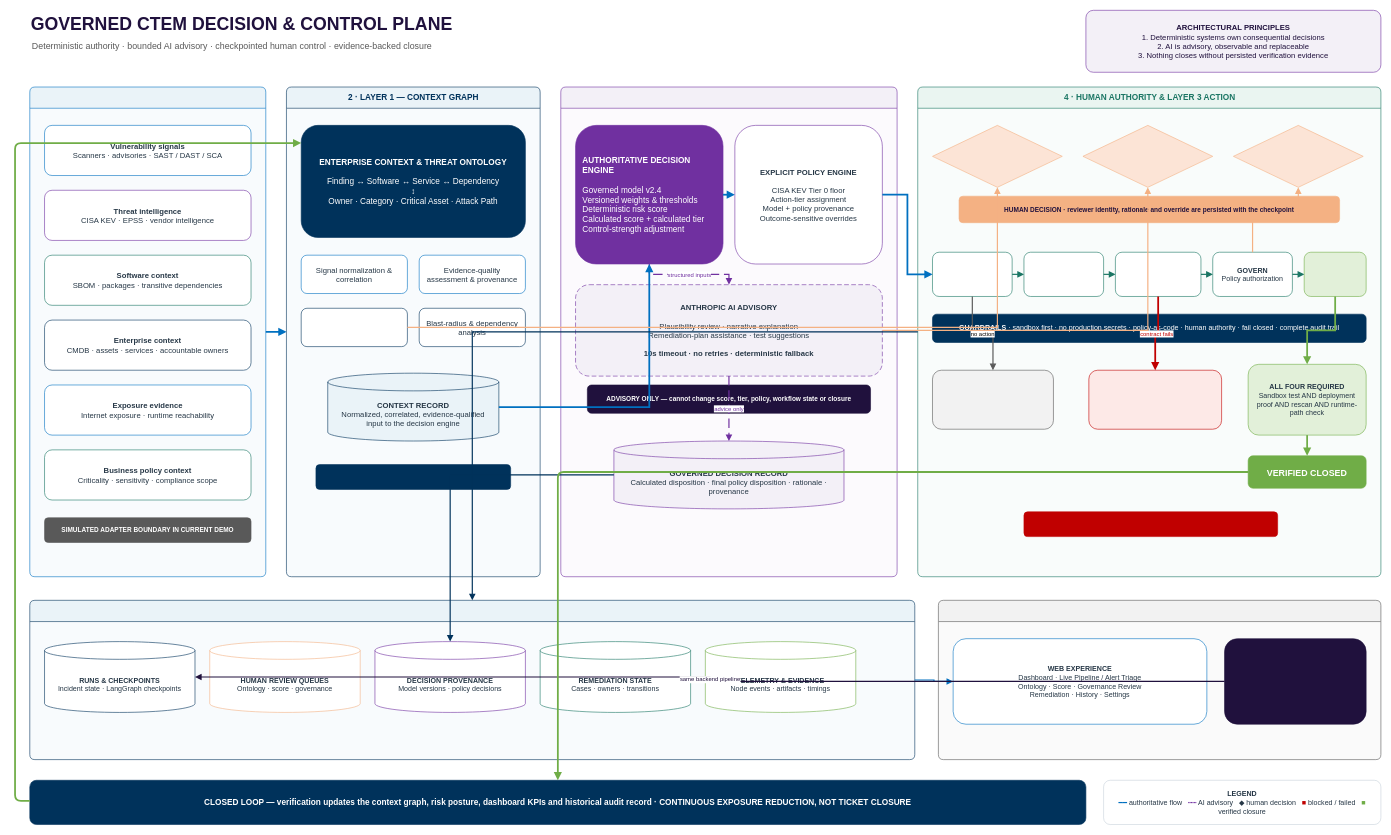
Image size: 1391x835. Some labels were removed from this diagram. The box of each missing label's shape, as (x1, y1, x2, y2) in pixels:
1 · SIGNALS & ENTERPRISE CONTEXT: (29, 86, 266, 577)
3 · LAYER 2 — DECISION INTELLIGENCE: (560, 86, 897, 577)
Approved · planned · deployed · suppressed ≠ verified closed: (1023, 511, 1278, 537)
COMMAND-LINE DEMO CONTROL Reset baseline · inject JSON · watch pipeline: (1224, 638, 1366, 724)
DETERMINISTIC CONTEXT CONSTRUCTION: (315, 464, 511, 489)
GOVERNANCE REVIEW Authorize controlled execution or block: (1233, 125, 1363, 187)
Ontology / category matching: (301, 308, 407, 347)
ONTOLOGY REVIEW Approve category or use best available: (932, 125, 1062, 187)
PERSISTED SYSTEM OF RECORD & OBSERVABILITY: (29, 600, 915, 760)
PLAN Fix + alternatives: (1023, 252, 1104, 296)
PRESENTATION & OPERATIONS EXPERIENCE: (938, 600, 1381, 760)
SANDBOX FAILED Deployment blocked Downstream evidence = not-run: (1088, 370, 1222, 429)
SANDBOX Patch + contract test: (1115, 252, 1201, 296)
SCORE REVIEW Confirm or explicitly reclassify tier: (1082, 125, 1213, 187)
SUPPRESSED Persist rationale No remediation executed: (932, 370, 1053, 429)
TRIAGE Act or suppress: (932, 252, 1012, 296)
VERIFY Closure contract: (1304, 252, 1366, 296)
